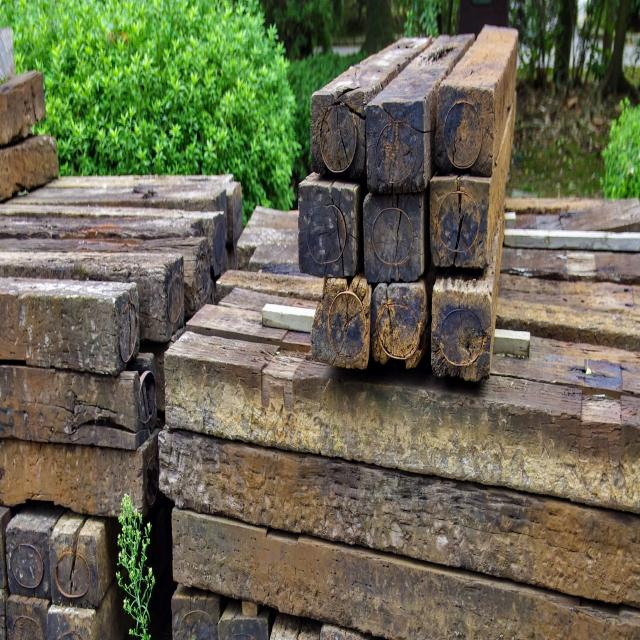green waste: (0, 16, 639, 636)
